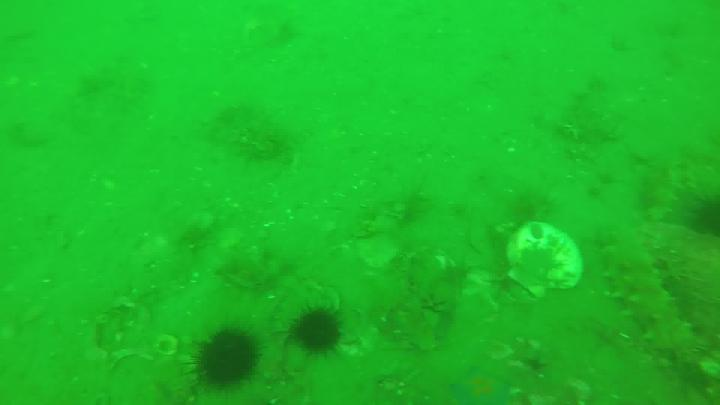echinus: (183, 330, 270, 400), (291, 309, 343, 356), (693, 186, 720, 243)
holothurian: (604, 217, 720, 405), (652, 137, 687, 225)
scallop: (500, 222, 583, 301), (353, 235, 401, 268)
starfish: (453, 365, 519, 405)
